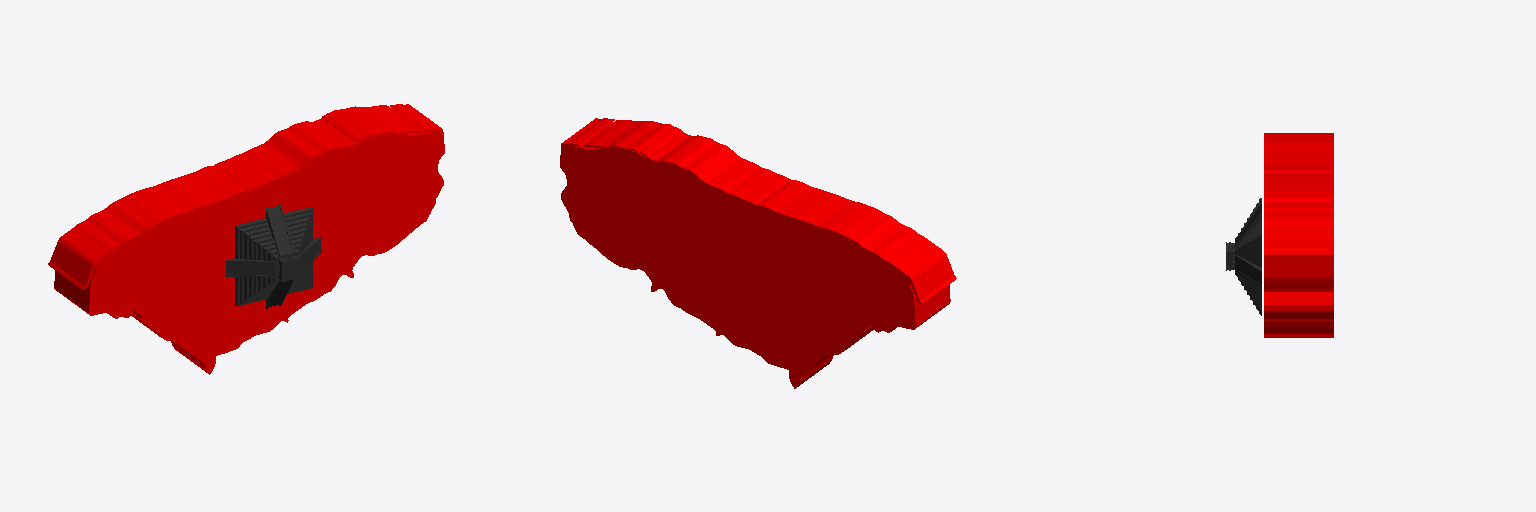
The model's file is Yucatan.obj.
3 views of the same model, side by side, from view 1: azimuth 30°, elevation 25°; view 2: azimuth 150°, elevation 25°; view 3: azimuth 270°, elevation 25° (orthographic).
Visible parts, largest first — view 1: group_0_[number redacted], _ceremonial_platform_with_altar; view 2: group_0_[number redacted]; view 3: group_0_[number redacted], _ceremonial_platform_with_altar.
Part boxes in pixels (x1,y1,x2,y2): group_0_[number redacted]: (48,104,444,374); _ceremonial_platform_with_altar: (225,204,321,308); group_0_[number redacted]: (560,118,956,388); group_0_[number redacted]: (1264,133,1333,337); _ceremonial_platform_with_altar: (1226,198,1261,315).
Size of the model in its own units: 20.91 by 11.06 by 5.41.